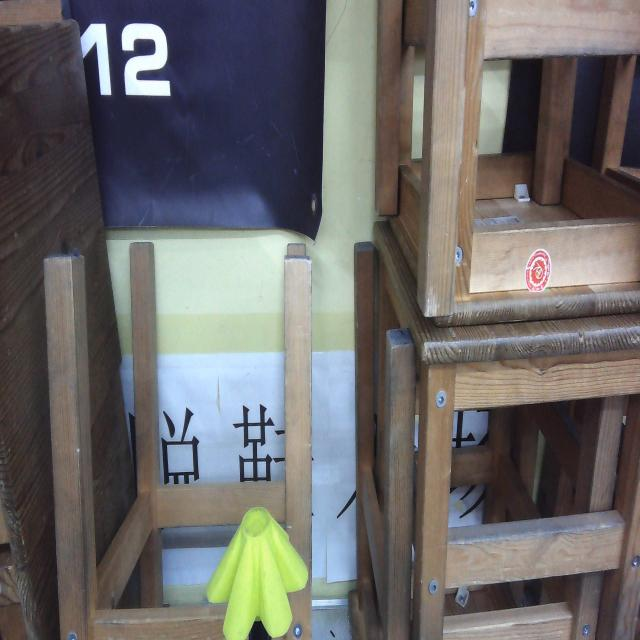Yellow-Stake-Head: (206, 506, 308, 640)
